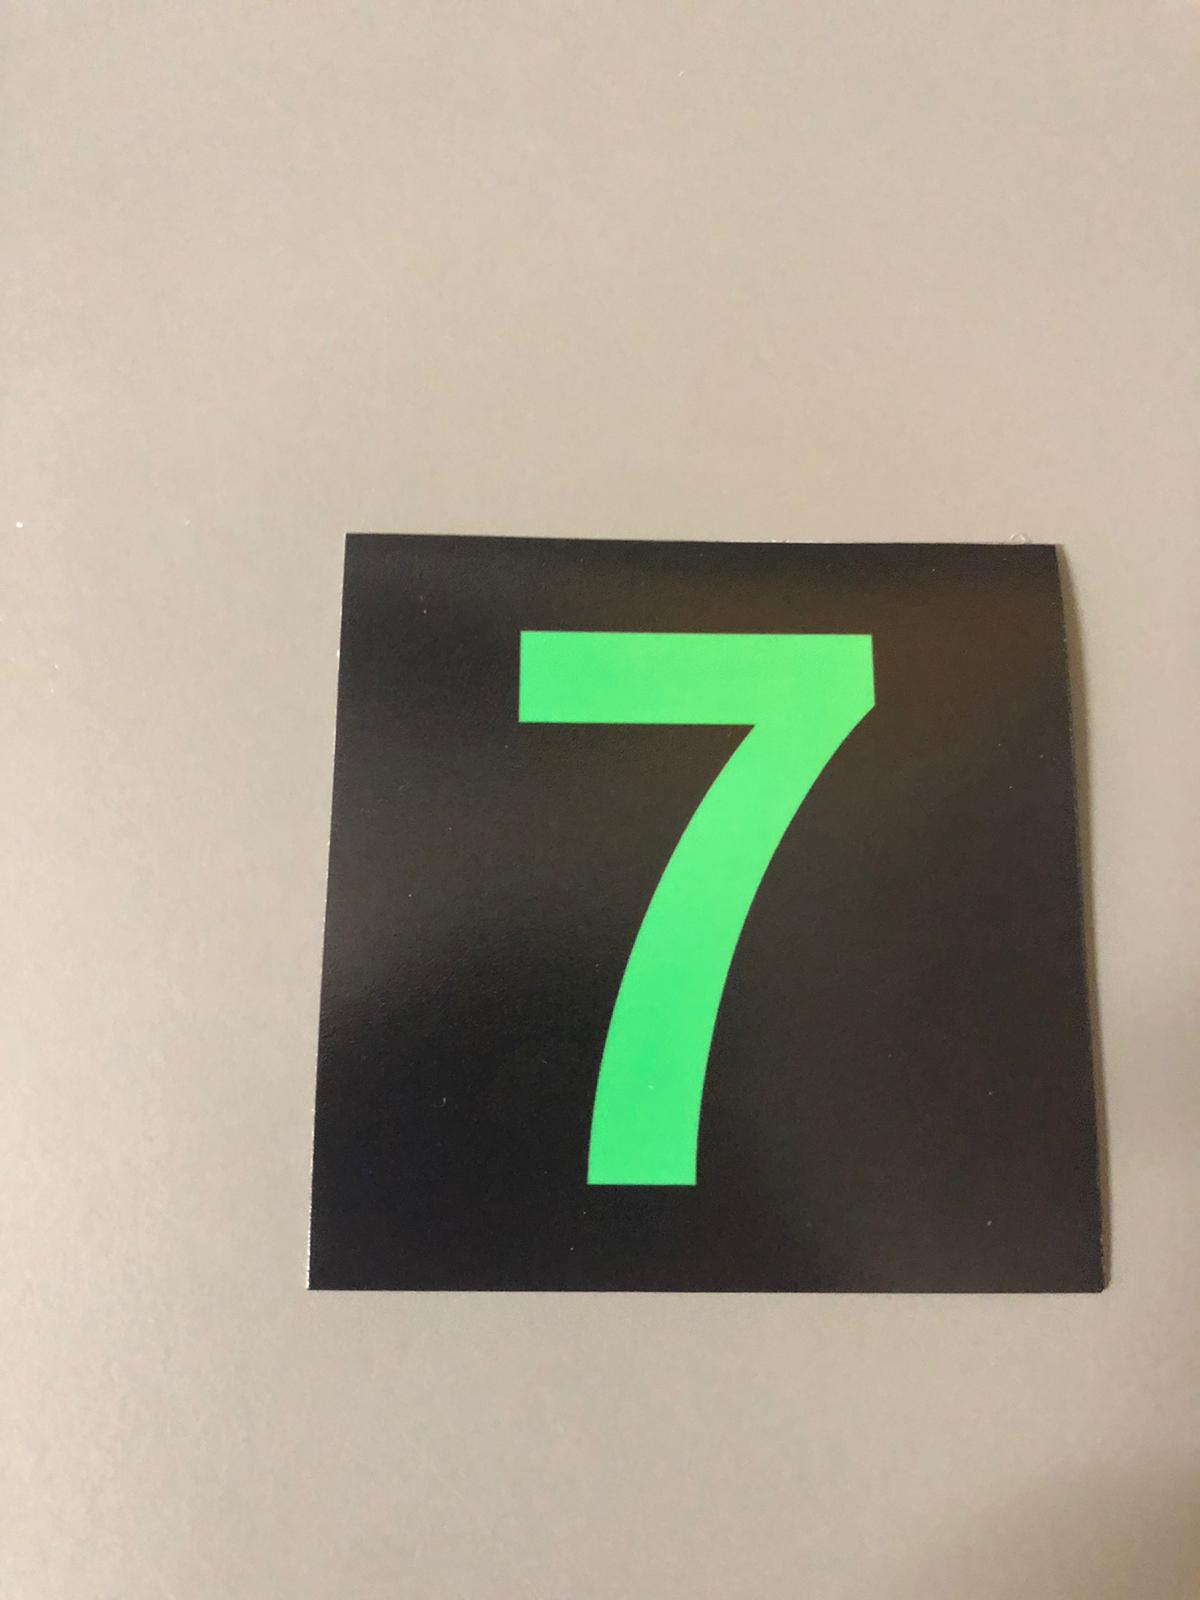Number 7: (345, 539, 1090, 1284)
